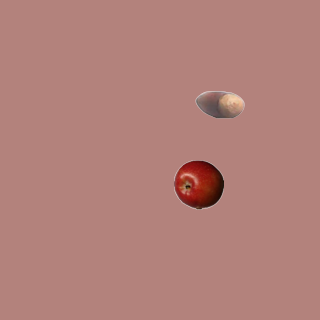Apple Braeburn: (173, 159, 223, 209)
Hazelnut: (194, 79, 244, 129)
